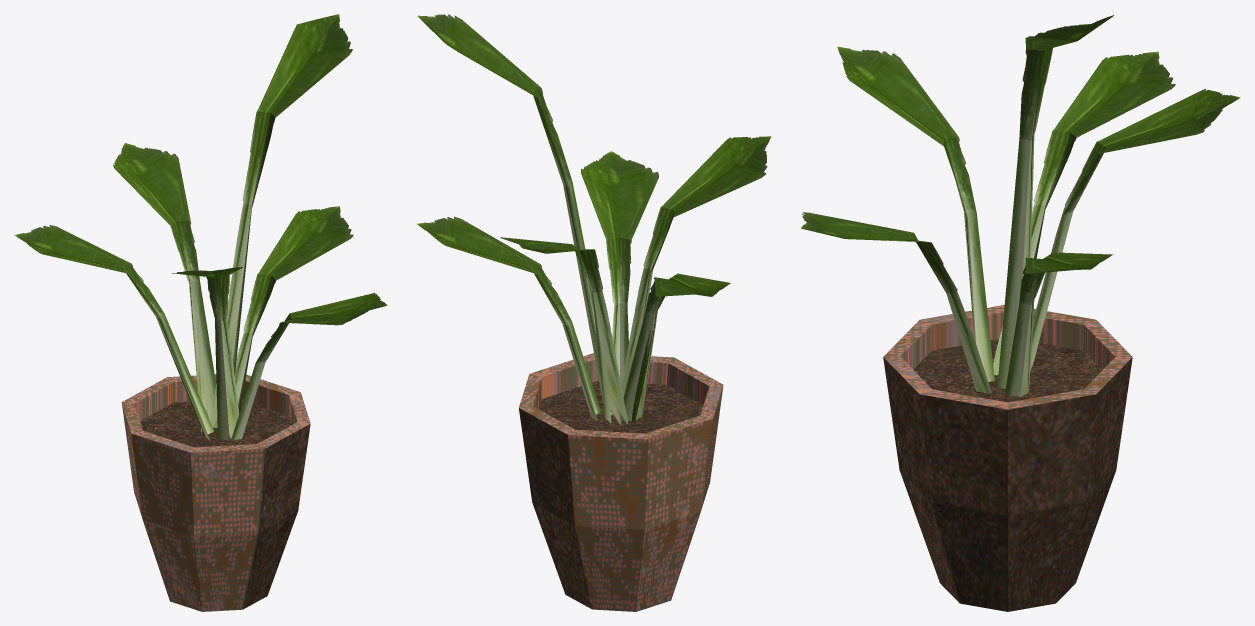
The model's file is hotel_potted_plant.fbx.
3 views of the same model, side by side, from view 1: azimuth 30°, elevation 25°; view 2: azimuth 150°, elevation 25°; view 3: azimuth 270°, elevation 25° (orthographic). The views are drawn at different scales.
Visible parts, largest first — view 1: Cylinder; view 2: Cylinder; view 3: Cylinder.
Boxes of the visible parts, bbox=[...] form: Cylinder: bbox=[14, 14, 387, 611]; Cylinder: bbox=[417, 14, 771, 611]; Cylinder: bbox=[801, 15, 1240, 611].
Size of the model in its own units: 35.33 by 58.01 by 35.33.
